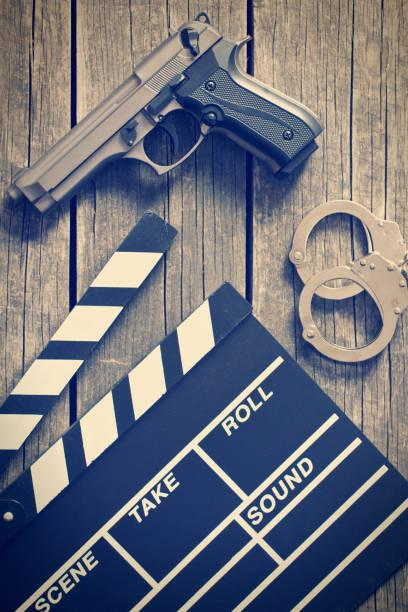weapon: (8, 6, 325, 221)
